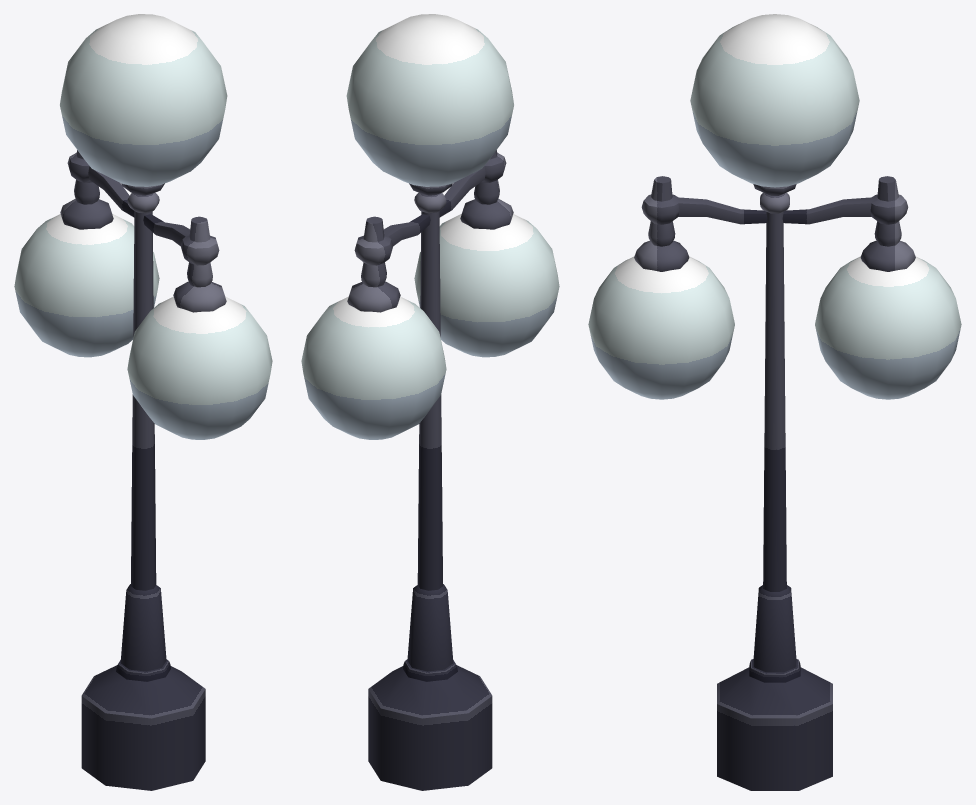
File: farol_03.fbx
3 views of the same model, side by side, from view 1: azimuth 30°, elevation 25°; view 2: azimuth 150°, elevation 25°; view 3: azimuth 270°, elevation 25° (orthographic).
Visible parts, largest first — view 1: farol_03; view 2: farol_03; view 3: farol_03.
Part boxes in pixels (x1,y1,x2,y2): farol_03: [14, 14, 272, 790]; farol_03: [301, 14, 559, 790]; farol_03: [588, 14, 961, 790].
Bounding box in the file's own units: 176 × 855 × 388.
